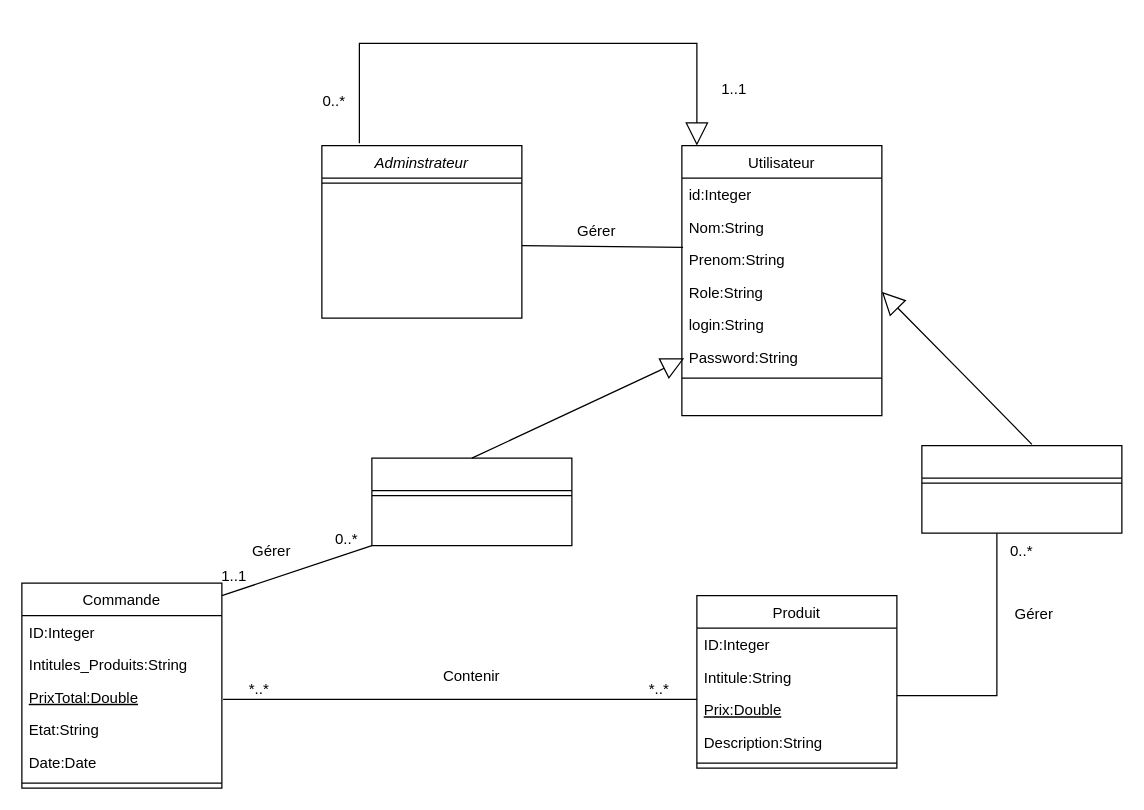
This 1144x810 diagram has some shape labels left out. The shapes that lost their labels are listed below. From the top down, each one's centre as x and y in pixels, then its label:
At point (471, 501): "Restaurateur".
At point (1021, 488): "Chef".
